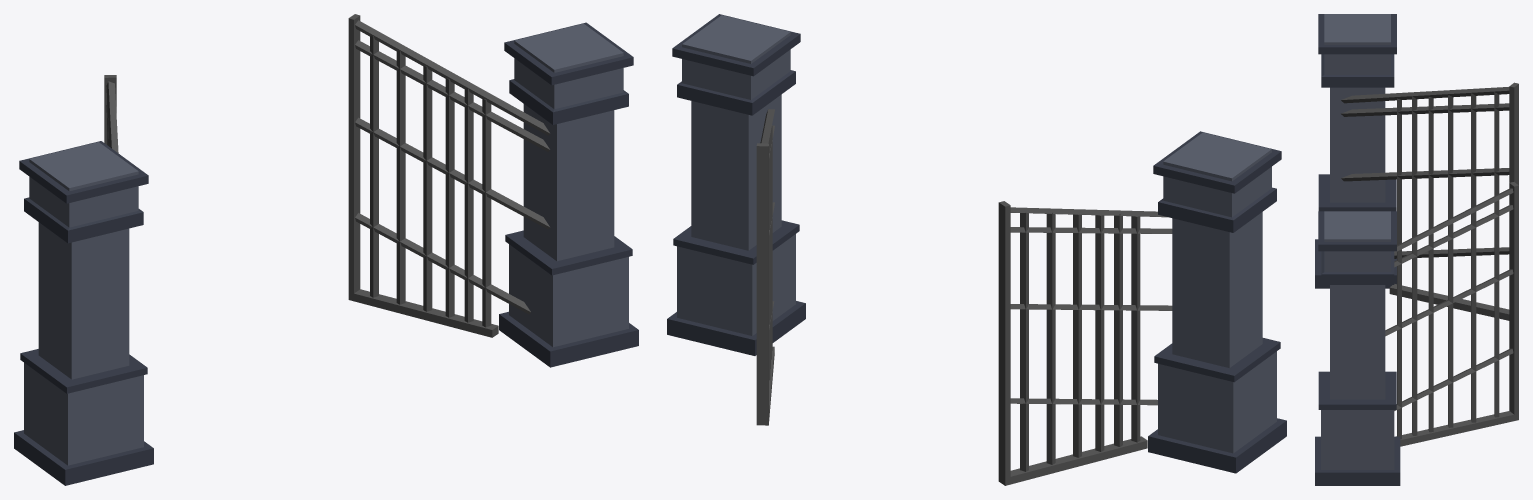
The model's file is Mesh_opened_gate.fbx.
The picture shows the model from 3 angles, left to right: view 1: azimuth 30°, elevation 25°; view 2: azimuth 150°, elevation 25°; view 3: azimuth 270°, elevation 25°; orthographic projection. The views are drawn at different scales.
Parts seen in each view (by area): view 1: opened_gate; view 2: opened_gate; view 3: opened_gate.
Boxes of the visible parts, x1,y1,x2,y2 form: opened_gate: (14, 14, 638, 485); opened_gate: (667, 14, 1286, 485); opened_gate: (1315, 14, 1518, 485).
Bounding box in the file's own units: 705 × 342 × 260.
Materials: 1 (1 with a texture image).
